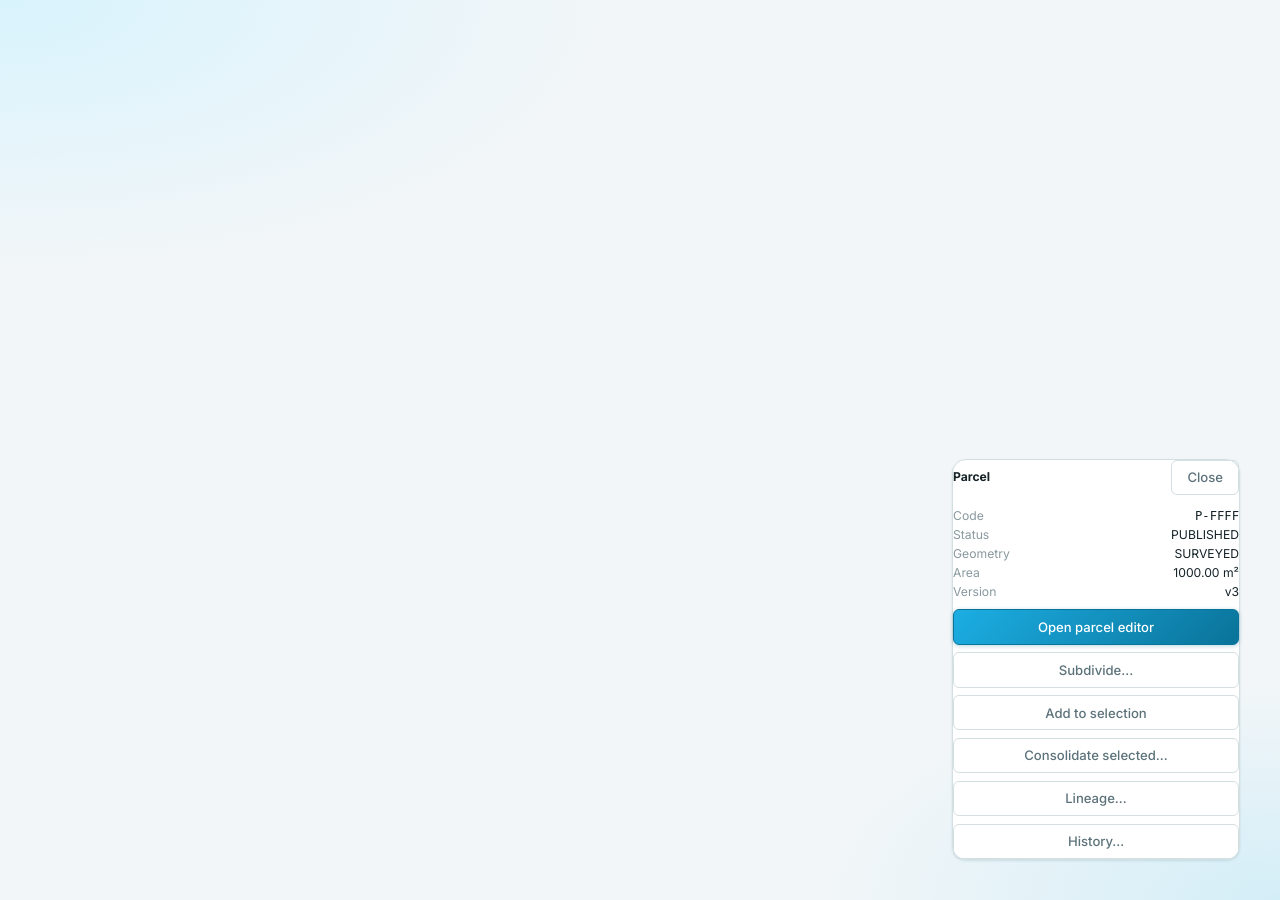
Scenario: ParcelActionMenu multi-select › adds the active parcel to the shared selection
Click the button with test id "parcel-action-select".
click(1096, 713)  # box [953,695,1239,730]
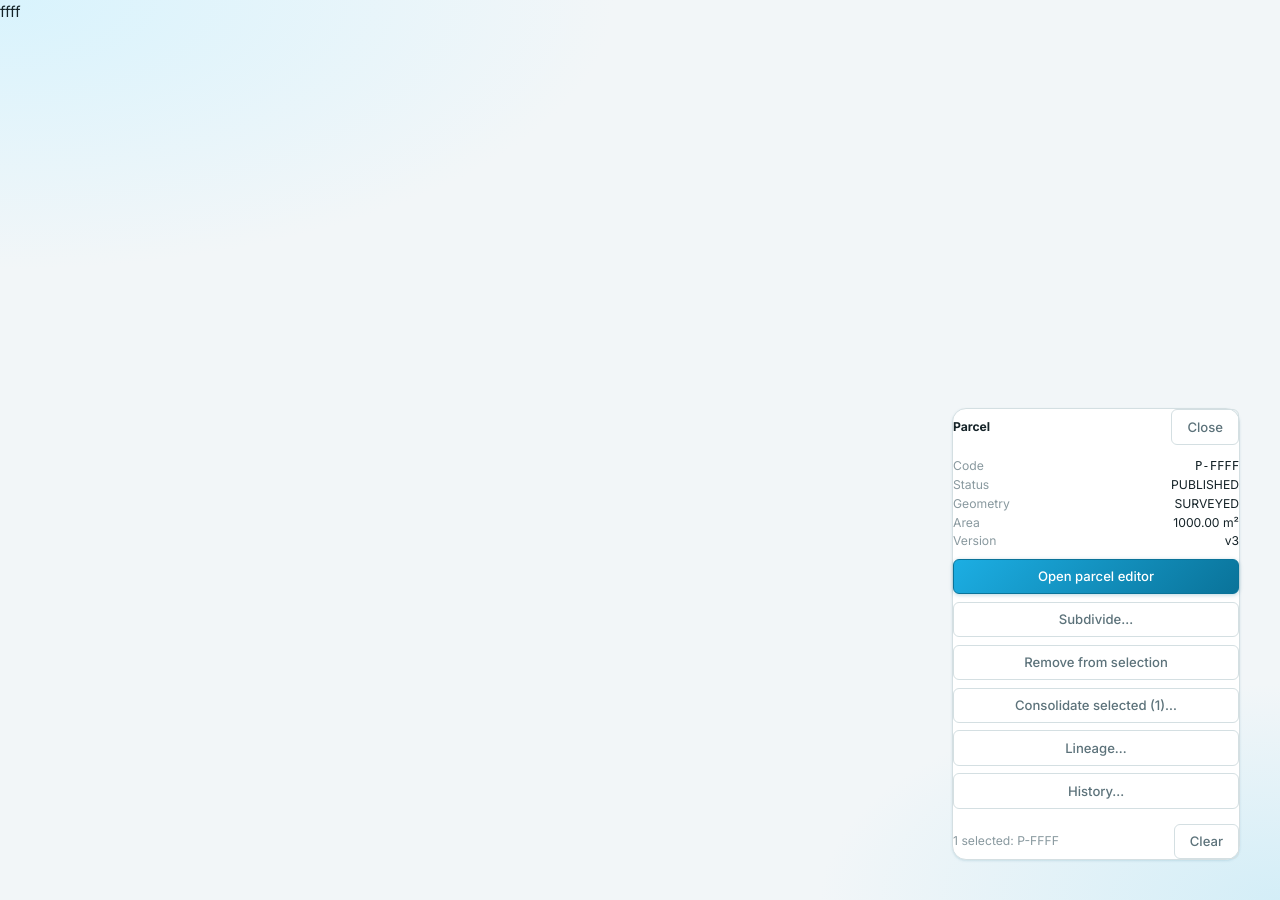
Expected: the element with test id "parcel-selection-summary" shows "1 selected", [953,824,1239,859]
Expected: the button with test id "parcel-action-select" reads "Remove from selection", [953,645,1239,680]
